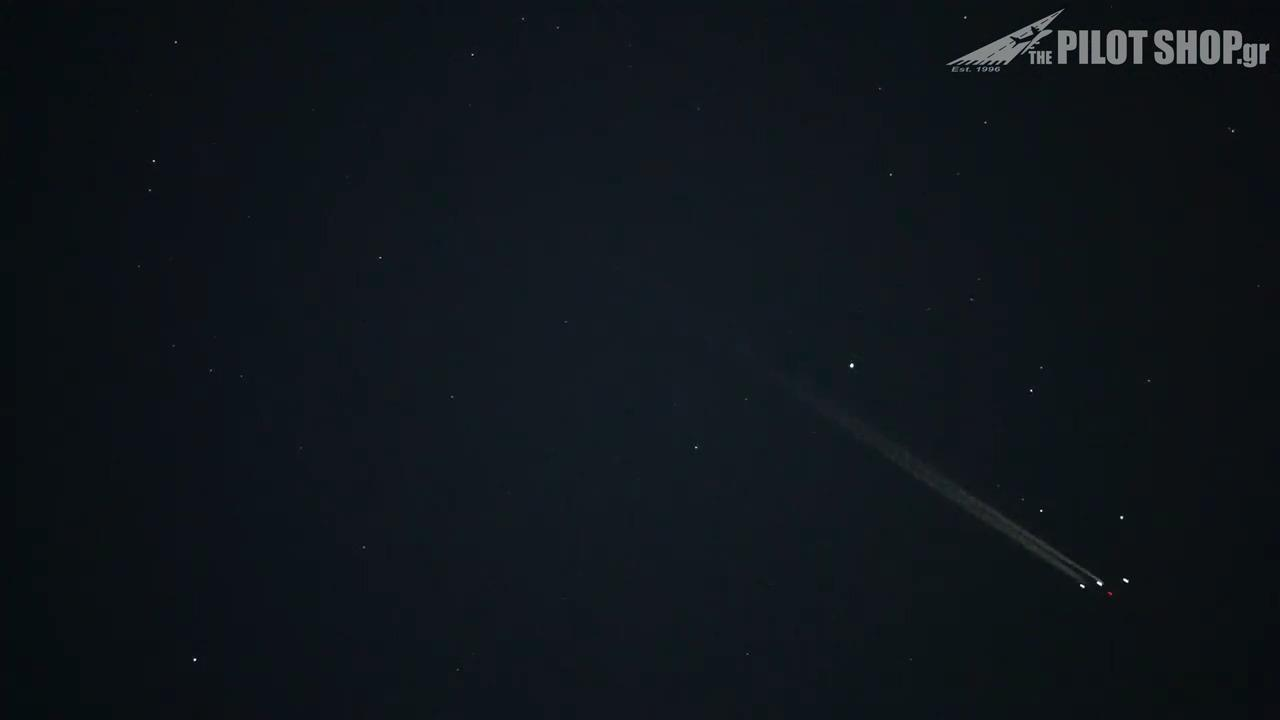Plane: (1026, 540, 1145, 606)
